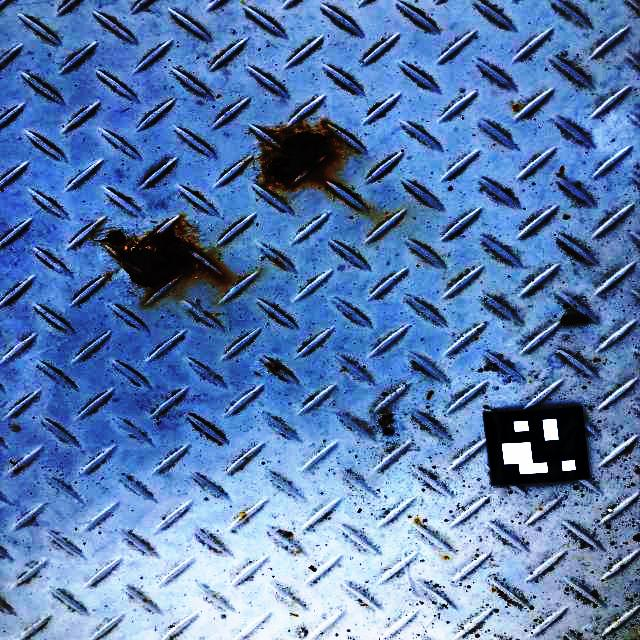Corrosion: (92, 216, 222, 290), (257, 123, 344, 191), (266, 362, 282, 373)
